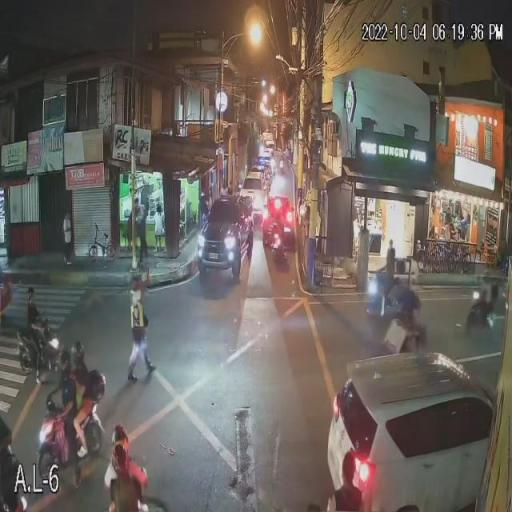helmet: (112, 441, 130, 464), (111, 424, 130, 443), (70, 341, 85, 365), (56, 350, 70, 374)
motorcycle: (34, 403, 104, 477), (16, 322, 66, 385), (379, 312, 427, 358), (464, 298, 498, 336), (265, 232, 287, 267)
rider: (70, 342, 106, 459), (104, 424, 148, 512), (44, 352, 83, 442), (383, 272, 421, 339), (26, 287, 54, 367), (470, 273, 495, 323), (266, 212, 284, 247)
